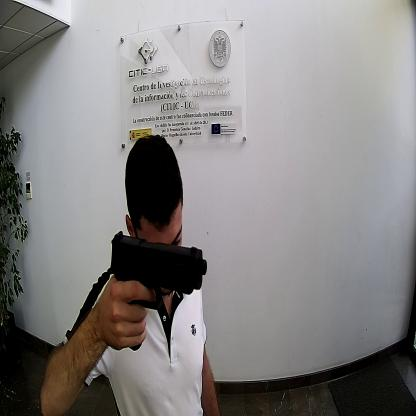pistol: (109, 230, 208, 351)
